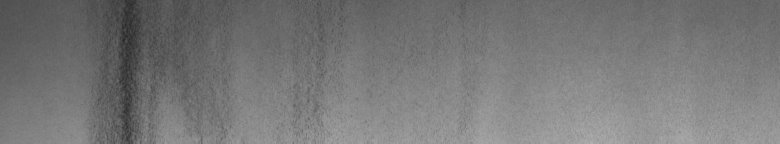ka: (95, 4, 164, 136)
